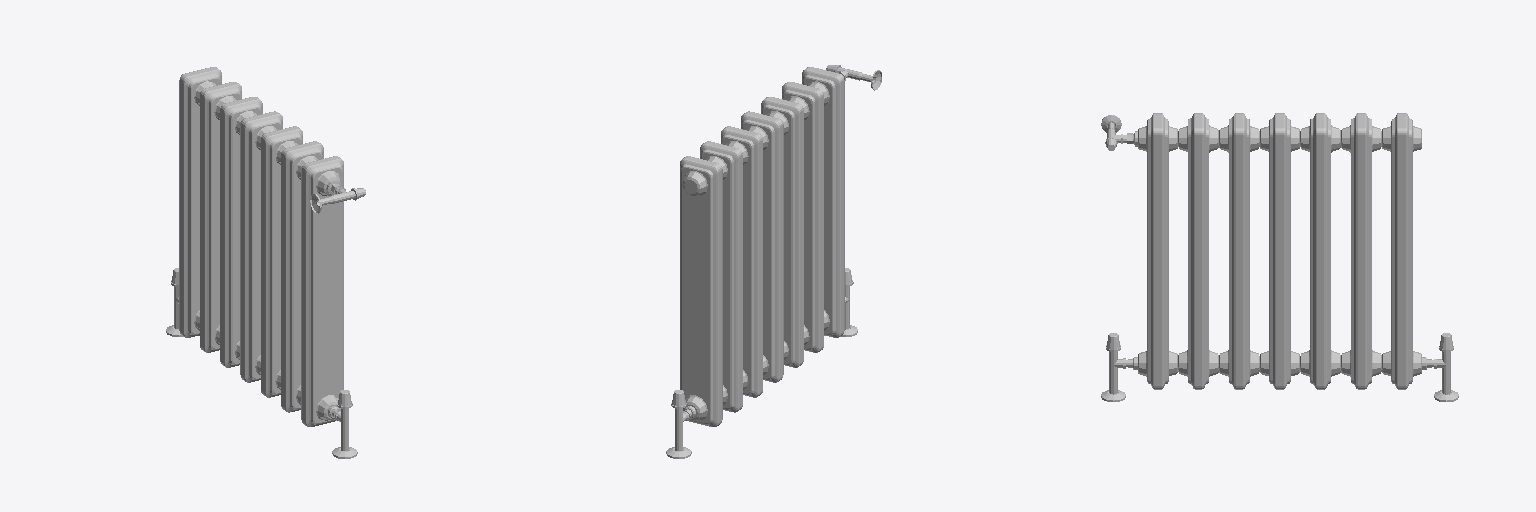
The model's file is radiator.obj.
The picture shows the model from 3 angles: view 1: azimuth 30°, elevation 25°; view 2: azimuth 150°, elevation 25°; view 3: azimuth 270°, elevation 25°; orthographic projection.
Parts seen in each view (by area): view 1: radiator_Plane.001; view 2: radiator_Plane.001; view 3: radiator_Plane.001.
Boxes of the visible parts, x1=… form: radiator_Plane.001: x1=166, y1=67, x2=365, y2=458; radiator_Plane.001: x1=666, y1=65, x2=881, y2=458; radiator_Plane.001: x1=1101, y1=113, x2=1458, y2=401.
Size of the model in its own units: 0.8347 by 4.41 by 5.18.